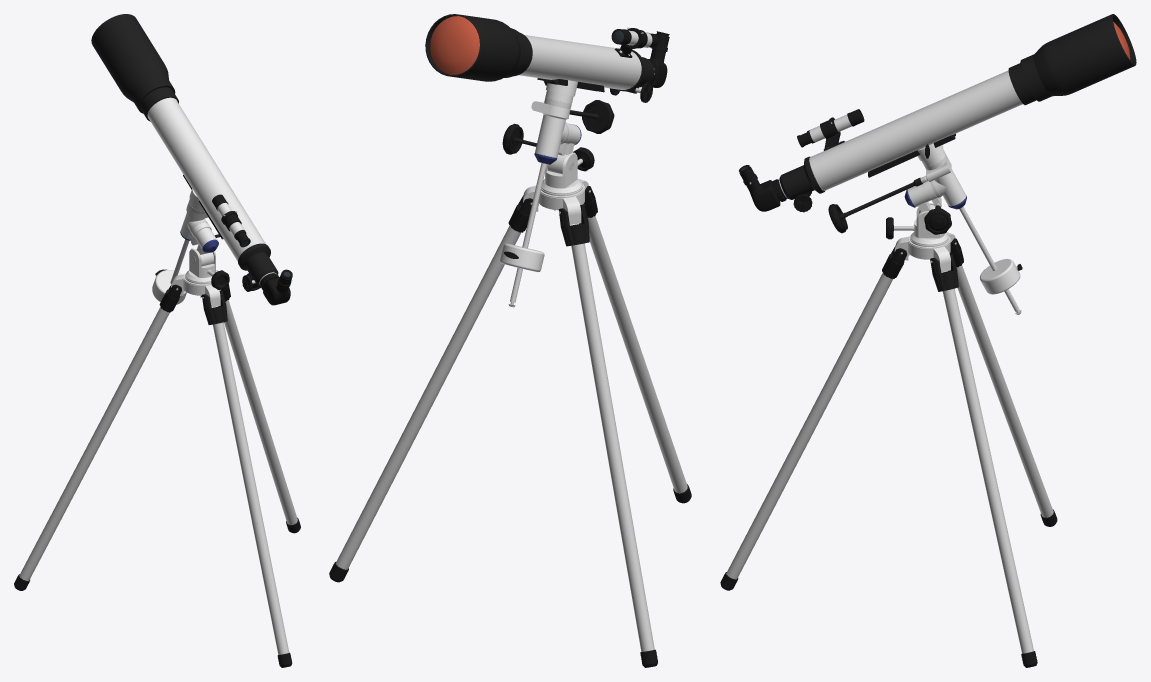
The model's file is refractor_telescope.glb.
3 renders of one model, left to right at view 1: azimuth 30°, elevation 25°; view 2: azimuth 150°, elevation 25°; view 3: azimuth 270°, elevation 25°, orthographic. The views are drawn at different scales.
Parts seen in each view (by area): view 1: Cylinder.007, Cylinder, Cylinder.001, Cylinder.006, Cylinder.003, Cube, Cylinder.005; view 2: Cylinder.007, Cylinder, Cylinder.001, Cylinder.006, Cylinder.003, Cylinder.002, Cylinder.005, Cylinder.008, Cylinder.004; view 3: Cylinder, Cylinder.007, Cylinder.001, Cylinder.006, Cylinder.003, Cylinder.005, Cylinder.002, Cube, Cylinder.004.
Boxes of the visible parts, x1,y1,x2,y2 form: Cylinder.007: (14, 284, 300, 667); Cylinder: (91, 14, 279, 290); Cylinder.001: (180, 189, 218, 266); Cylinder.006: (171, 248, 220, 307); Cylinder.003: (212, 194, 250, 247); Cube: (263, 278, 290, 305); Cylinder.005: (152, 270, 186, 304); Cylinder.007: (329, 186, 691, 667); Cylinder: (425, 14, 656, 93); Cylinder.001: (531, 80, 581, 174); Cylinder.006: (523, 152, 588, 224); Cylinder.003: (611, 28, 658, 57); Cylinder.002: (569, 100, 614, 133); Cylinder.005: (500, 243, 544, 272); Cylinder.008: (508, 163, 546, 307); Cylinder.004: (502, 123, 536, 154); Cylinder: (772, 14, 1136, 201); Cylinder.007: (720, 238, 1057, 667); Cylinder.001: (904, 143, 966, 213); Cylinder.006: (894, 203, 955, 272); Cylinder.003: (797, 109, 864, 150); Cylinder.005: (979, 258, 1020, 294); Cylinder.002: (828, 175, 928, 233); Cube: (746, 179, 780, 211); Cylinder.004: (924, 203, 951, 234).
Size of the model in its own units: 3.81 by 6.91 by 4.51.
